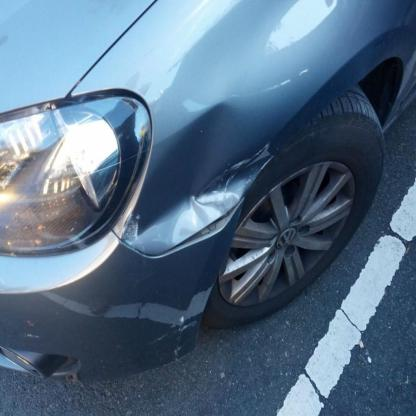front_bumper: (0, 198, 246, 378)
headlamp: (1, 89, 153, 256)
hood: (1, 0, 157, 112)
